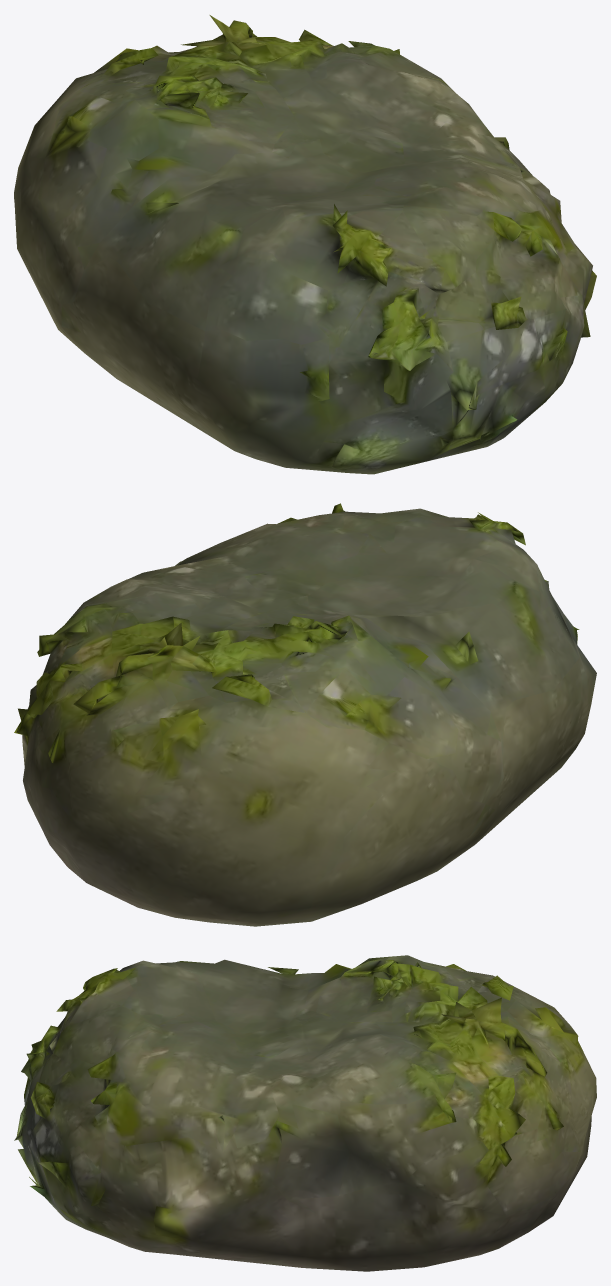
File: stone.glb
The picture shows the model from 3 angles, top to bottom: view 1: azimuth 30°, elevation 25°; view 2: azimuth 150°, elevation 25°; view 3: azimuth 270°, elevation 25°; orthographic projection. The views are drawn at different scales.
Parts seen in each view (by area): view 1: tripo_node_18d48d76-7fa9-486b-8628-3b4306eeb3b0; view 2: tripo_node_18d48d76-7fa9-486b-8628-3b4306eeb3b0; view 3: tripo_node_18d48d76-7fa9-486b-8628-3b4306eeb3b0.
Boxes of the visible parts, box(x1,y1,x2,y2) form: tripo_node_18d48d76-7fa9-486b-8628-3b4306eeb3b0: box(14, 15, 596, 474); tripo_node_18d48d76-7fa9-486b-8628-3b4306eeb3b0: box(14, 503, 596, 926); tripo_node_18d48d76-7fa9-486b-8628-3b4306eeb3b0: box(14, 955, 596, 1271).
Bounding box in the file's own units: 0.5033 × 0.2995 × 0.7019.
Materials: 1 (1 with a texture image).
